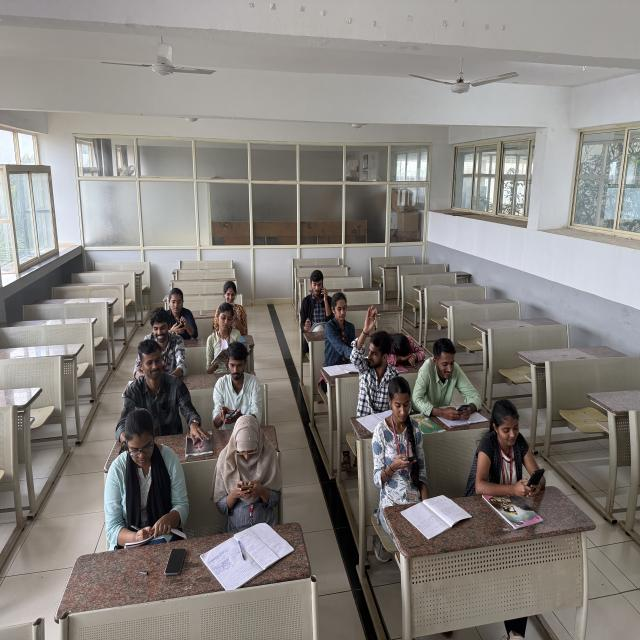Hand Rising: (350, 299, 392, 413)
Reading: (324, 290, 360, 370), (206, 301, 244, 372)
Sleeping: (384, 322, 428, 372)
Using Phone: (212, 409, 284, 524), (472, 396, 552, 499), (370, 374, 425, 496), (416, 340, 485, 419), (208, 339, 261, 429), (298, 266, 338, 334), (163, 286, 200, 346), (212, 280, 248, 332)
Writing: (96, 406, 188, 544)
